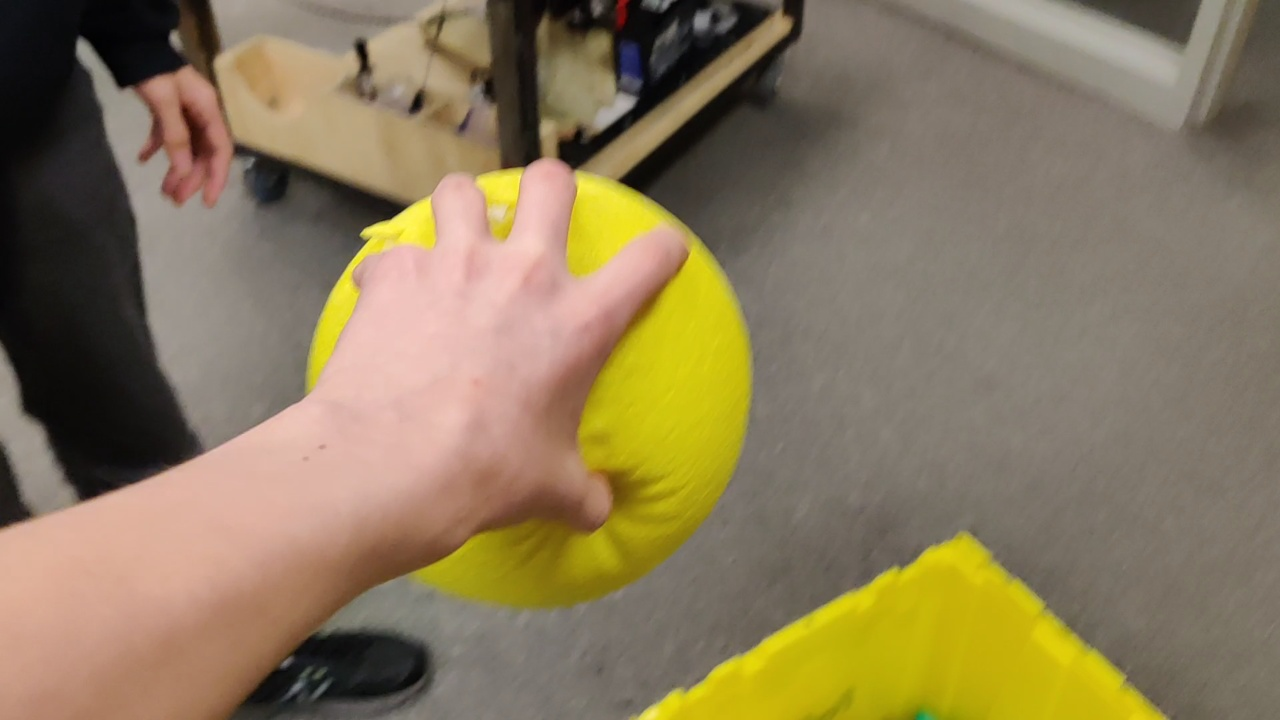Ball: (429, 252, 753, 605)
